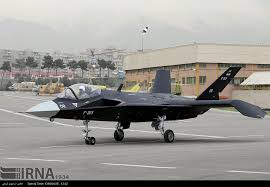fighter: (17, 62, 263, 145)
